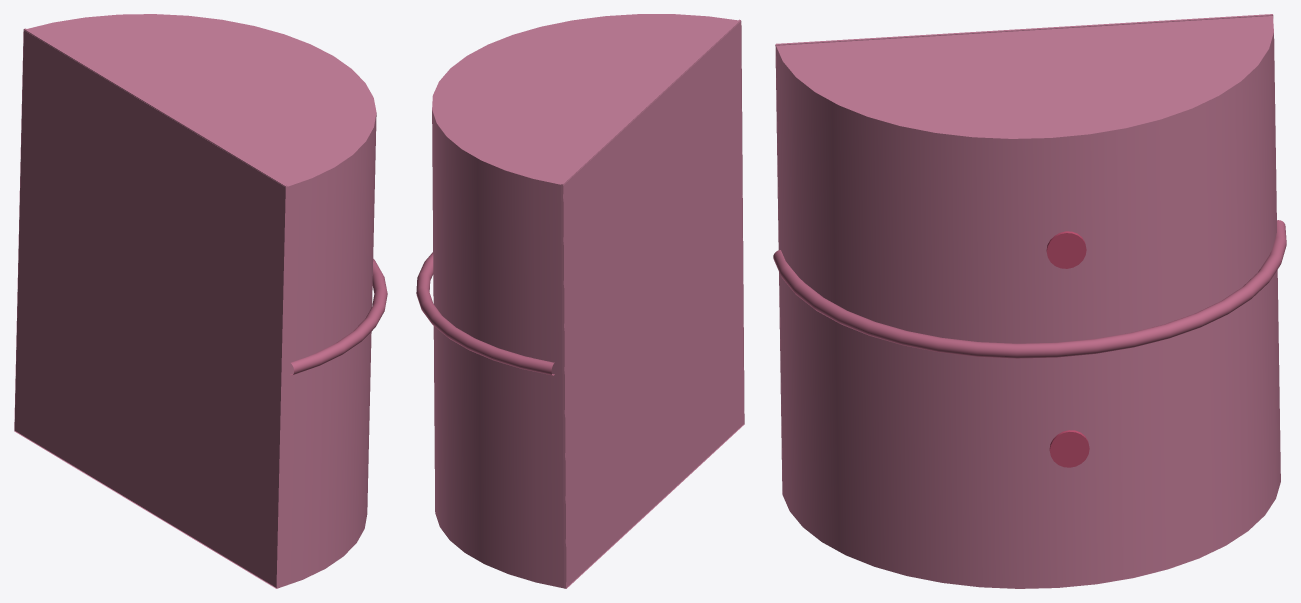
File: mueble.obj
The picture shows the model from 3 angles, left to right: view 1: azimuth 30°, elevation 25°; view 2: azimuth 150°, elevation 25°; view 3: azimuth 270°, elevation 25°; orthographic projection. The views are drawn at different scales.
Visible parts, largest first — view 1: polySurface48; view 2: polySurface48; view 3: polySurface48.
Part boxes in pixels (x1,y1,x2,y2): polySurface48: (14,14,387,588); polySurface48: (416,14,744,588); polySurface48: (773,14,1286,588).
Bounding box in the file's own units: 1.2 × 2.04 × 2.05.
